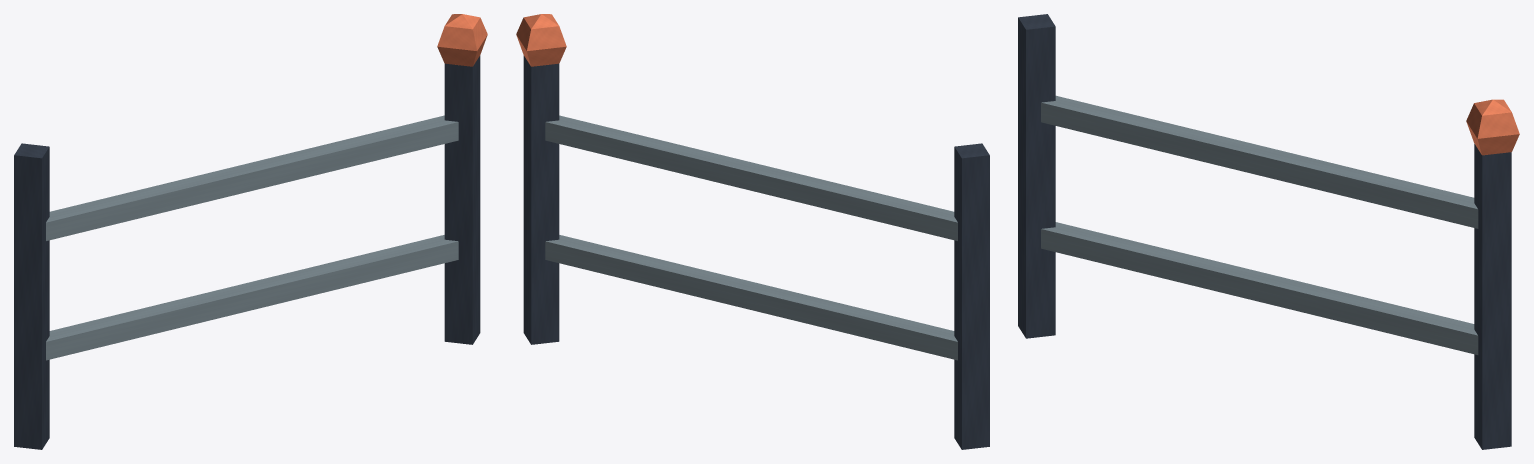
Rendered from atlas100-basalt-util04.lod1.glb.
3 renders of one model, left to right at view 1: azimuth 30°, elevation 25°; view 2: azimuth 150°, elevation 25°; view 3: azimuth 330°, elevation 25°, orthographic. The views are drawn at different scales.
Visible parts, largest first — view 1: atlas100-basalt-util04:part-004, atlas100-basalt-util04:part-005, atlas100-basalt-util04:part-000, atlas100-basalt-util04:part-002, atlas100-basalt-util04:part-003; view 2: atlas100-basalt-util04:part-004, atlas100-basalt-util04:part-005, atlas100-basalt-util04:part-000, atlas100-basalt-util04:part-002, atlas100-basalt-util04:part-003; view 3: atlas100-basalt-util04:part-004, atlas100-basalt-util04:part-005, atlas100-basalt-util04:part-000, atlas100-basalt-util04:part-002, atlas100-basalt-util04:part-003.
Part boxes in pixels (box(x1,y1,x2,y2)): atlas100-basalt-util04:part-004: box(46, 235, 458, 360); atlas100-basalt-util04:part-005: box(46, 115, 458, 240); atlas100-basalt-util04:part-000: box(14, 143, 49, 449); atlas100-basalt-util04:part-002: box(444, 55, 480, 344); atlas100-basalt-util04:part-003: box(437, 14, 487, 66); atlas100-basalt-util04:part-004: box(545, 235, 957, 360); atlas100-basalt-util04:part-005: box(545, 115, 957, 240); atlas100-basalt-util04:part-000: box(954, 143, 989, 449); atlas100-basalt-util04:part-002: box(523, 55, 559, 344); atlas100-basalt-util04:part-003: box(516, 14, 566, 66); atlas100-basalt-util04:part-004: box(1041, 222, 1478, 354); atlas100-basalt-util04:part-005: box(1041, 95, 1478, 228); atlas100-basalt-util04:part-000: box(1018, 14, 1055, 338); atlas100-basalt-util04:part-002: box(1474, 144, 1511, 449); atlas100-basalt-util04:part-003: box(1466, 99, 1519, 155).
Size of the model in its own units: 2.04 by 1.33 by 0.2184.
Materials: 3 (3 with a texture image).
